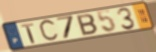3: (117, 7, 137, 31)
5: (95, 8, 119, 33)
7: (56, 14, 76, 40)
B: (75, 13, 99, 37)
C: (38, 18, 60, 43)
T: (20, 23, 37, 45)
